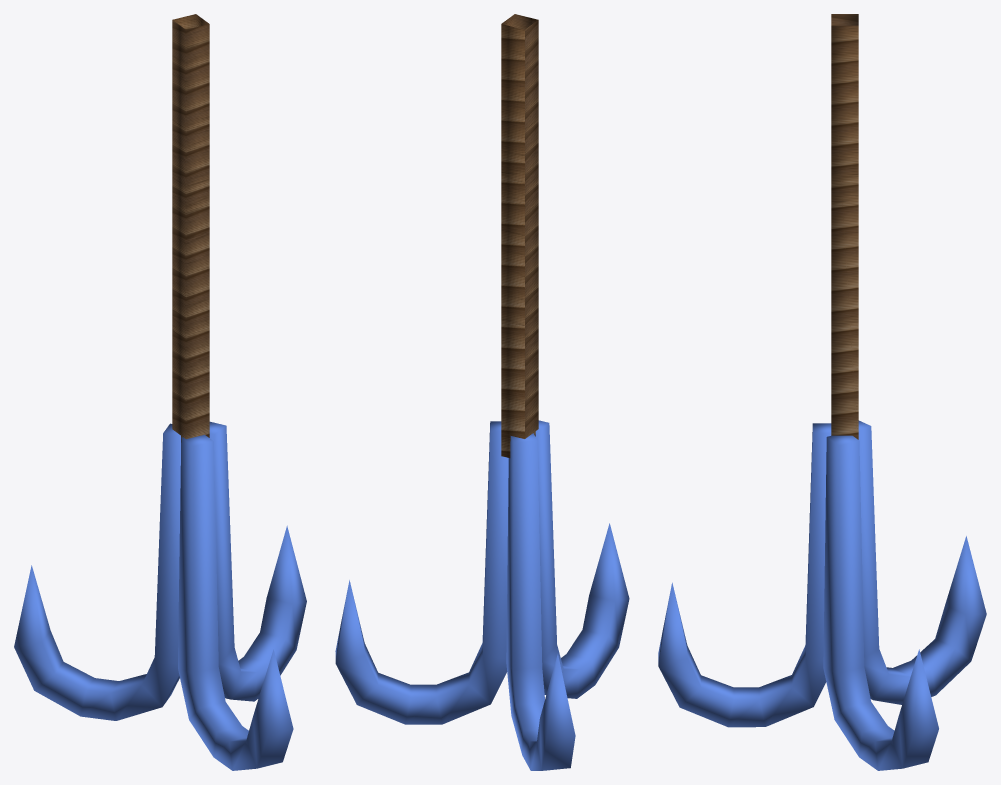
The model's file is Hook_2.fbx.
3 renders of one model, left to right at view 1: azimuth 30°, elevation 25°; view 2: azimuth 150°, elevation 25°; view 3: azimuth 270°, elevation 25°, orthographic.
Parts seen in each view (by area): view 1: Hook_2; view 2: Hook_2; view 3: Hook_2.
Part boxes in pixels (x1=…): Hook_2: x1=14, y1=14, x2=306, y2=770; Hook_2: x1=335, y1=14, x2=629, y2=770; Hook_2: x1=658, y1=14, x2=986, y2=770.
Bounding box in the file's own units: 0.1631 × 0.4106 × 0.1739.
